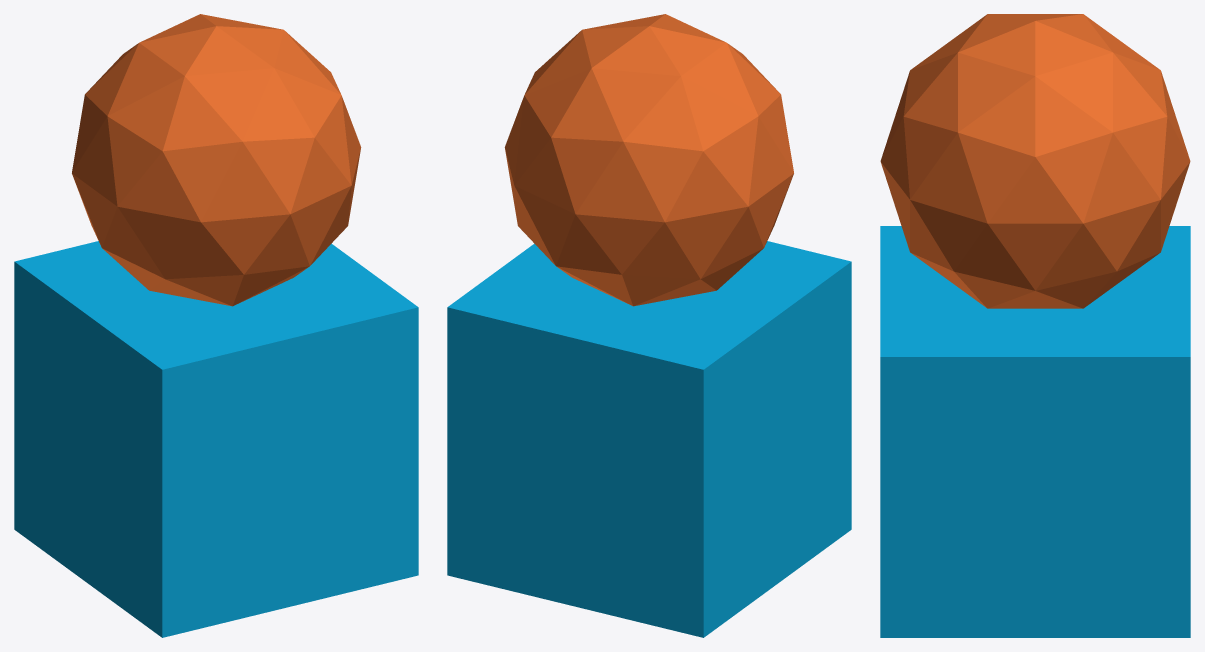
The model's file is test_flipped.gltf.
The picture shows the model from 3 angles, left to right: view 1: azimuth 30°, elevation 25°; view 2: azimuth 150°, elevation 25°; view 3: azimuth 270°, elevation 25°; orthographic projection. The views are drawn at different scales.
Visible parts, largest first — view 1: Cube, Icosphere; view 2: Cube, Icosphere; view 3: Cube, Icosphere.
Boxes of the visible parts, box(x1,y1,x2,y2) form: Cube: box(14, 241, 418, 637); Icosphere: box(72, 14, 361, 306); Cube: box(447, 241, 851, 637); Icosphere: box(504, 14, 793, 306); Cube: box(880, 226, 1190, 637); Icosphere: box(880, 14, 1190, 308).
Size of the model in its own units: 2 by 3.93 by 2.
